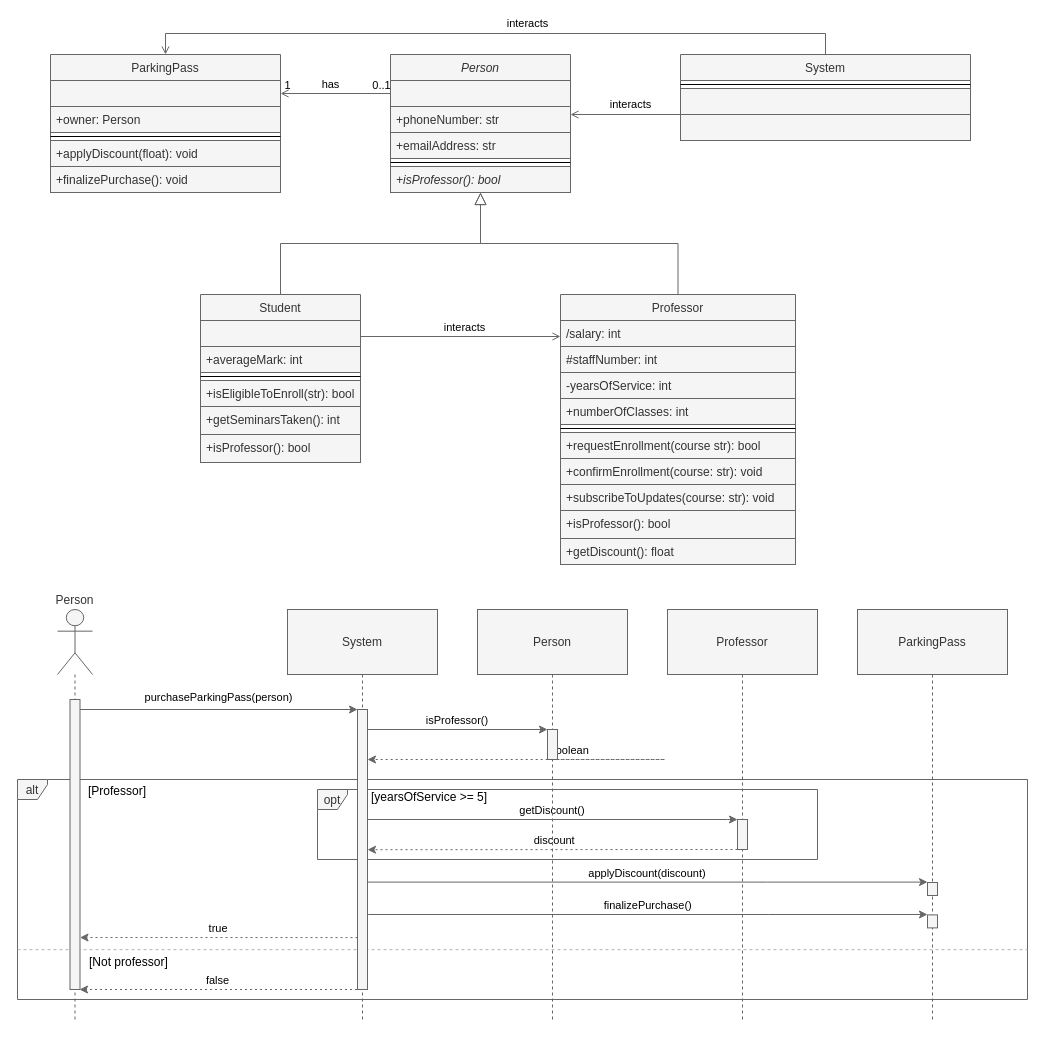
This 1045x1037 diagram has some shape labels left out. Here are the shapes that lost their labels. From the top down, the centre of each, then its label:
pixel 165 93: +price: float
pixel 480 93: +name: str
pixel 825 101: +approveEnrollment(course str): bool
pixel 825 127: +purchaseParkingPass(person: Person): bool
pixel 280 333: +studentNumber: int
